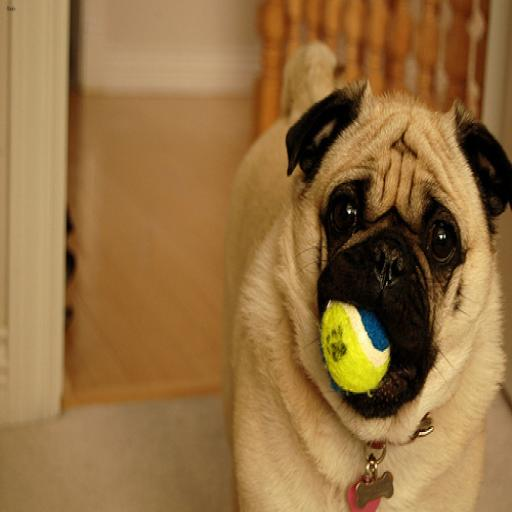dog_face: (282, 78, 511, 410)
